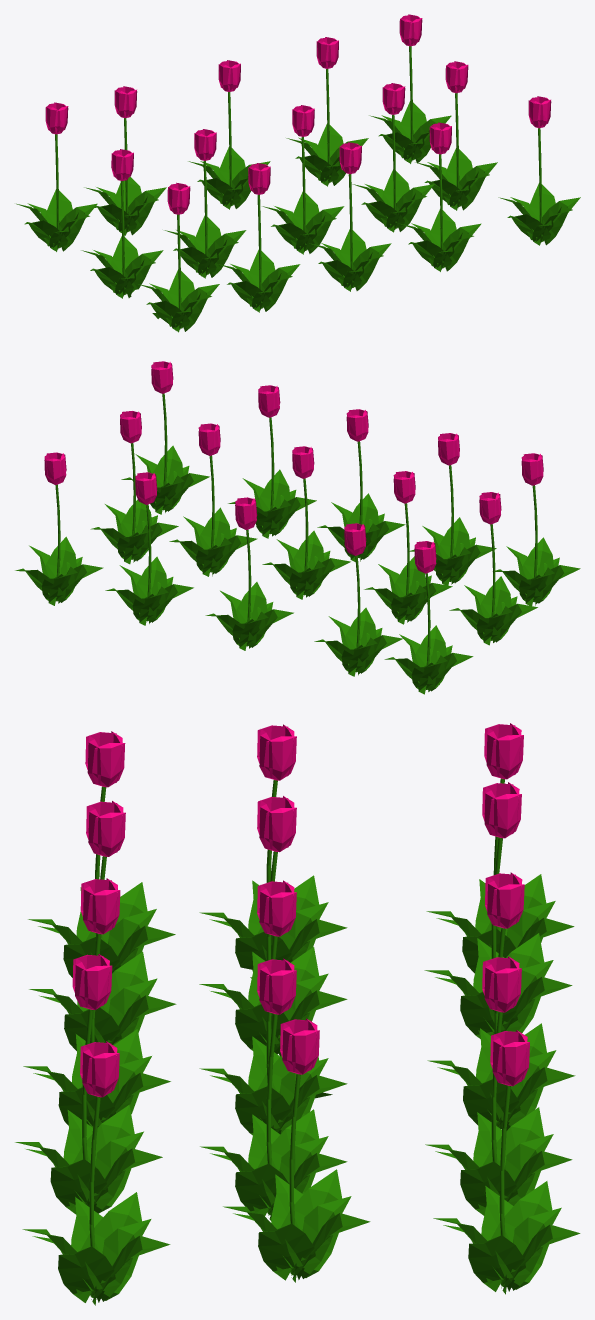
File: florpondio.obj
The picture shows the model from 3 angles, top to bottom: view 1: azimuth 30°, elevation 25°; view 2: azimuth 150°, elevation 25°; view 3: azimuth 270°, elevation 25°; orthographic projection. The views are drawn at different scales.
Visible parts, largest first — view 1: tulip, Cabezas, Object001; view 2: tulip, Cabezas, Object001; view 3: tulip, Cabezas, Object001.
Part boxes in pixels (left/top/right/bottom): tulip: left=16, top=46, right=580, bottom=332; Cabezas: left=45, top=14, right=551, bottom=214; Object001: left=295, top=126, right=561, bottom=236; tulip: left=15, top=393, right=580, bottom=694; Cabezas: left=44, top=361, right=543, bottom=573; Object001: left=109, top=442, right=274, bottom=625; tulip: left=15, top=778, right=580, bottom=1305; Cabezas: left=72, top=723, right=529, bottom=1097; Object001: left=58, top=1084, right=566, bottom=1299.
Size of the model in its own units: 86.14 by 34.64 by 54.14.
